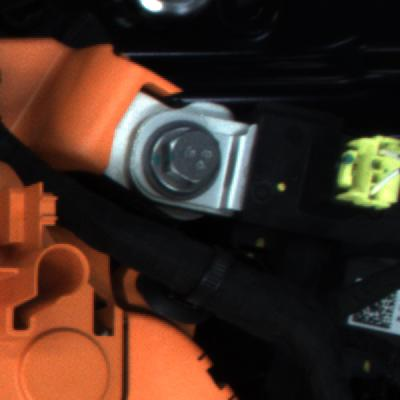nut_b: (139, 114, 221, 205)
